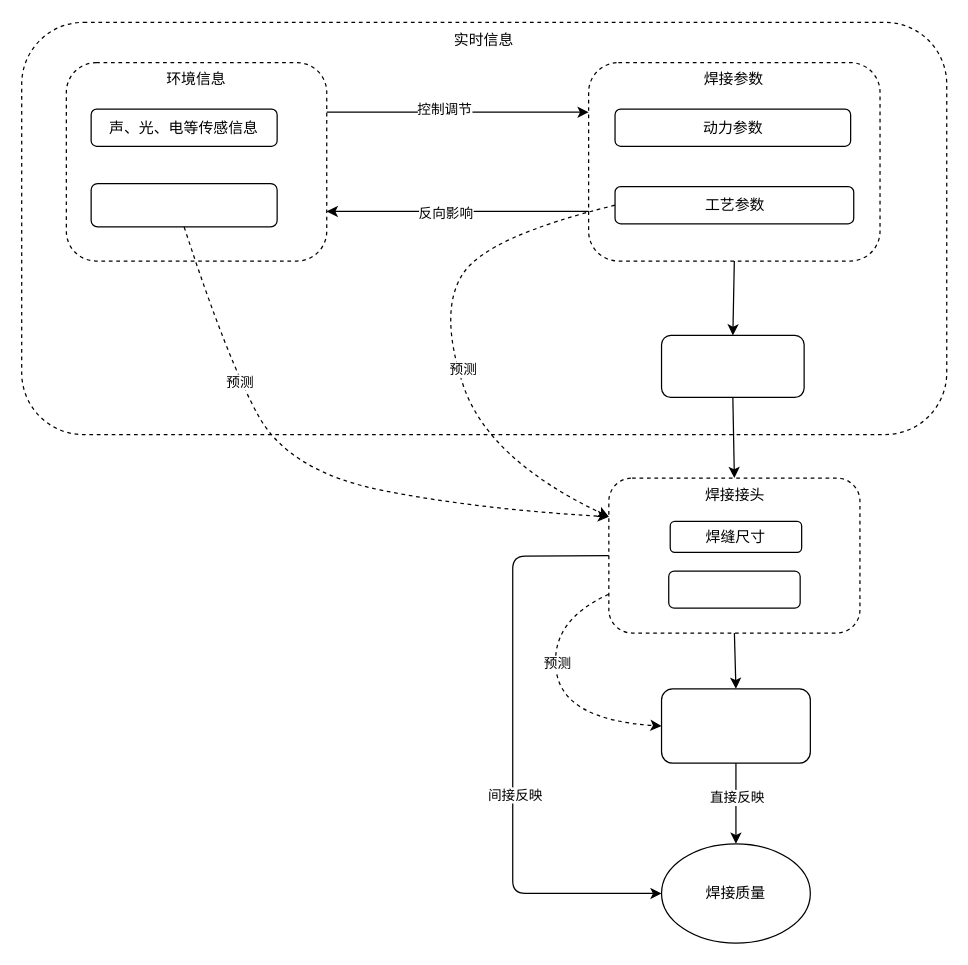
This 968x965 diagram has some shape labels left out. The shapes that lost their labels are listed below. From the top down, each one's centre as x and y in pixels, then its label:
the point at 183,204: 熔池图像等环境图像
the point at 732,365: 熔池
the point at 733,589: 缺陷
the point at 735,725: 接头（力学）性能
